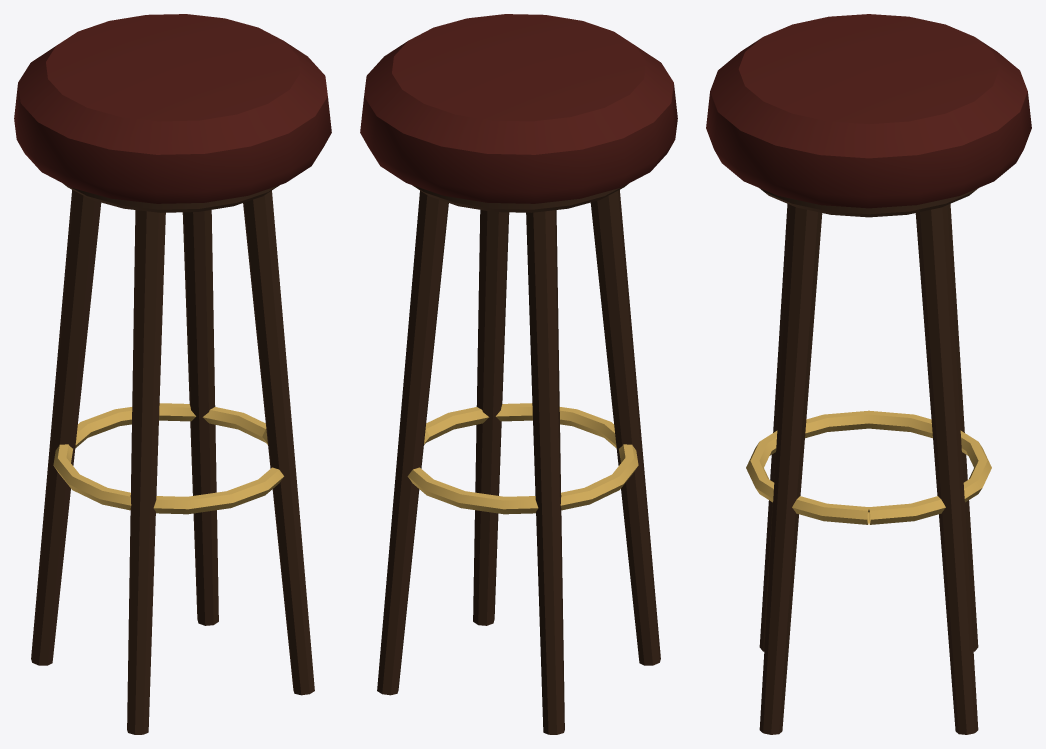
The model's file is bar_stool.glb.
The picture shows the model from 3 angles, left to right: view 1: azimuth 30°, elevation 25°; view 2: azimuth 150°, elevation 25°; view 3: azimuth 270°, elevation 25°; orthographic projection.
Parts seen in each view (by area): view 1: bar_stool; view 2: bar_stool; view 3: bar_stool.
Boxes of the visible parts, left/top/right/bottom form: bar_stool: left=14, top=14, right=331, bottom=734; bar_stool: left=360, top=14, right=677, bottom=734; bar_stool: left=706, top=14, right=1031, bottom=734.
Size of the model in its own units: 0.4 by 0.8513 by 0.4.
